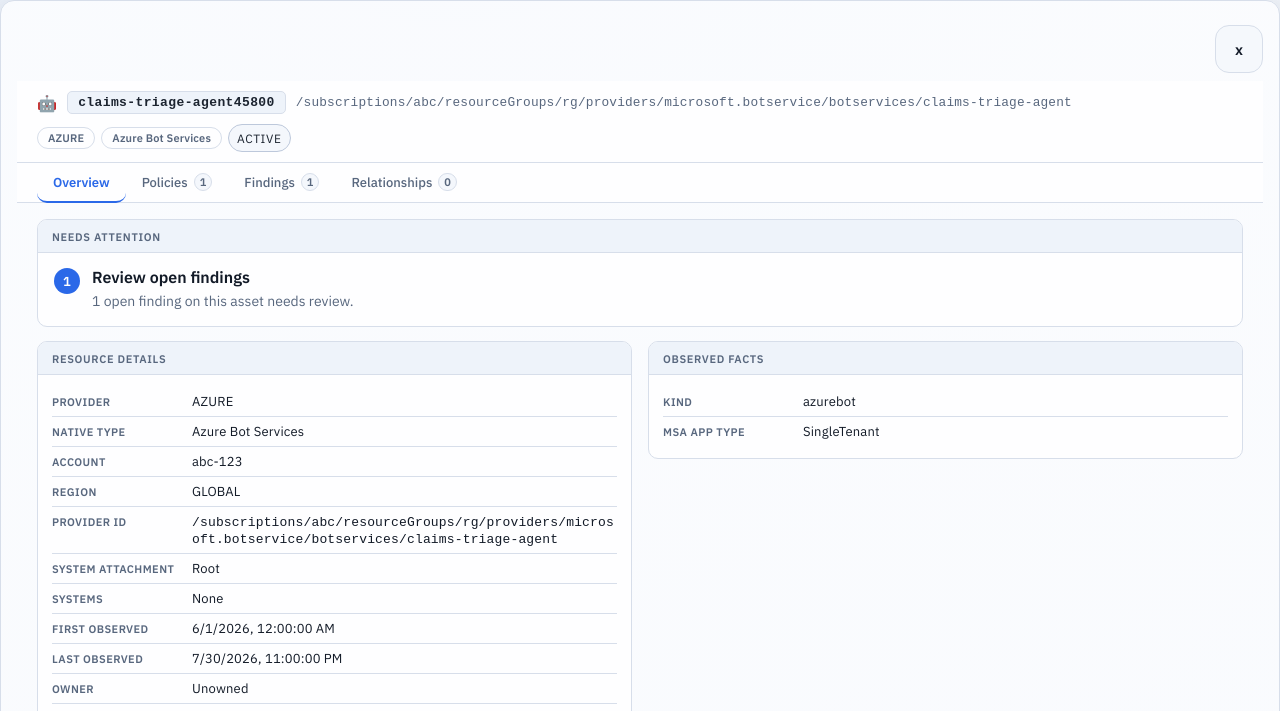
Test case: AiAssetDetailPage › shows applicable policies scoped to this artifact type in the Policies tab
Check: the text "claims-triage-agent45800" is shown, box top-left (67, 91), bottom-right (286, 114)
Click the button "Policies 1" at (177, 183), box top-left (126, 163), bottom-right (228, 203)
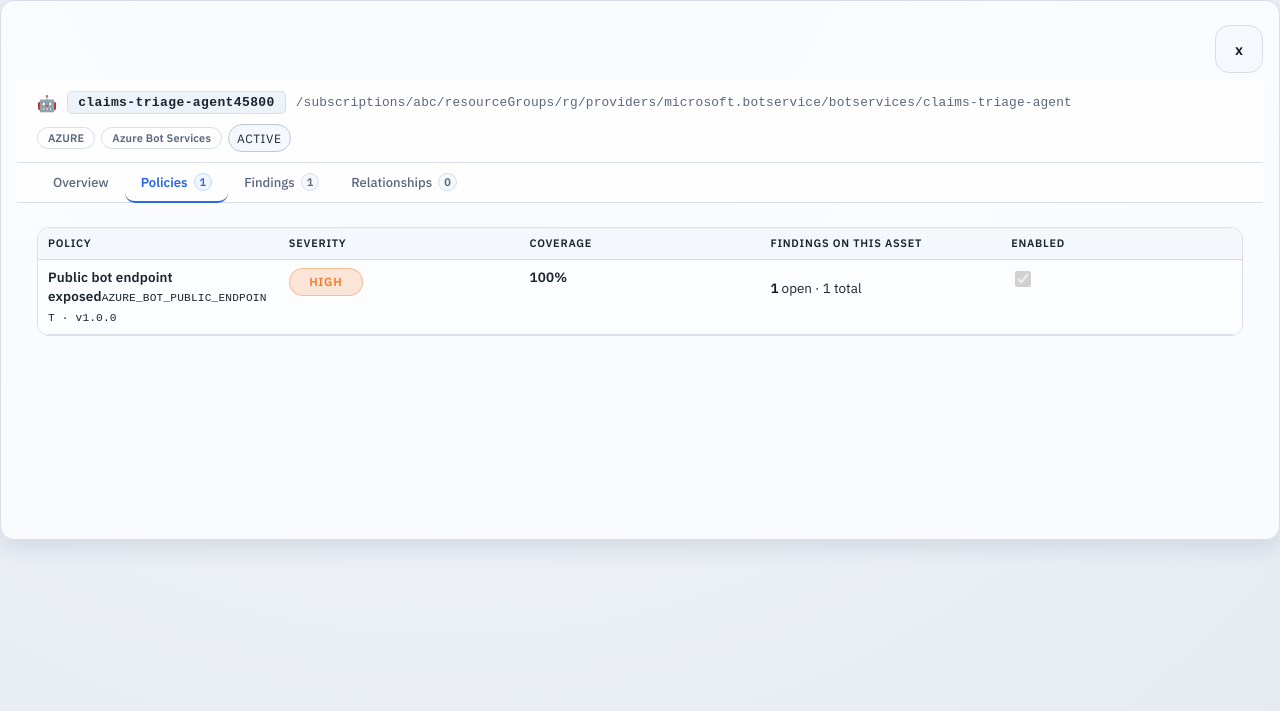
Check: the text "Public bot endpoint exposed" is shown, box top-left (48, 268), bottom-right (173, 305)
